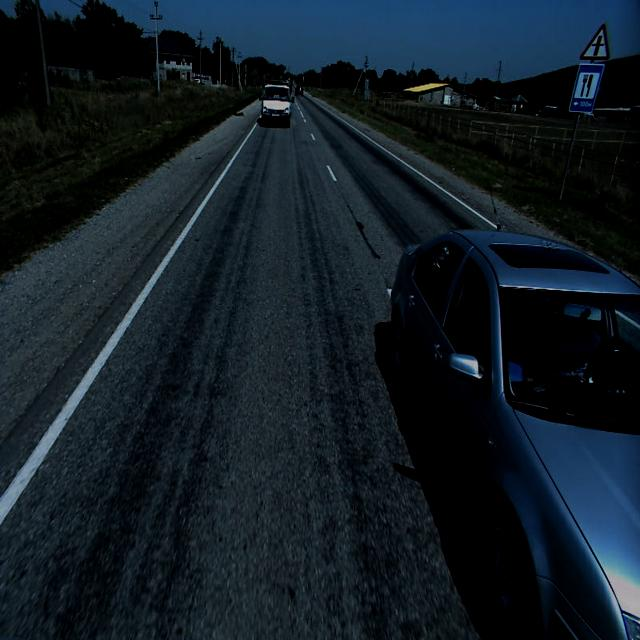road: (0, 92, 496, 639)
